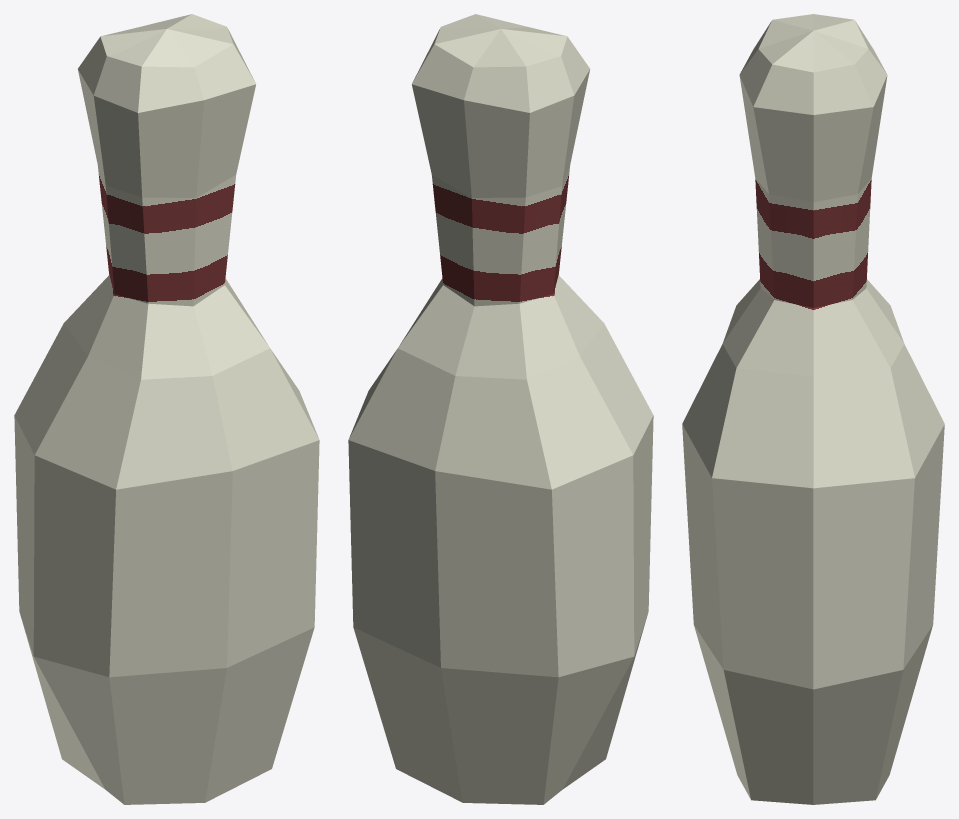
Rendered from kregl.fbx.
The picture shows the model from 3 angles, left to right: view 1: azimuth 30°, elevation 25°; view 2: azimuth 150°, elevation 25°; view 3: azimuth 270°, elevation 25°; orthographic projection.
Parts seen in each view (by area): view 1: Roundcube.001; view 2: Roundcube.001; view 3: Roundcube.001.
Boxes of the visible parts, <box> form: Roundcube.001: <box>14,14,319,804</box>; Roundcube.001: <box>348,14,653,804</box>; Roundcube.001: <box>682,14,944,804</box>.
Bounding box in the file's own units: 159 × 432 × 136.
